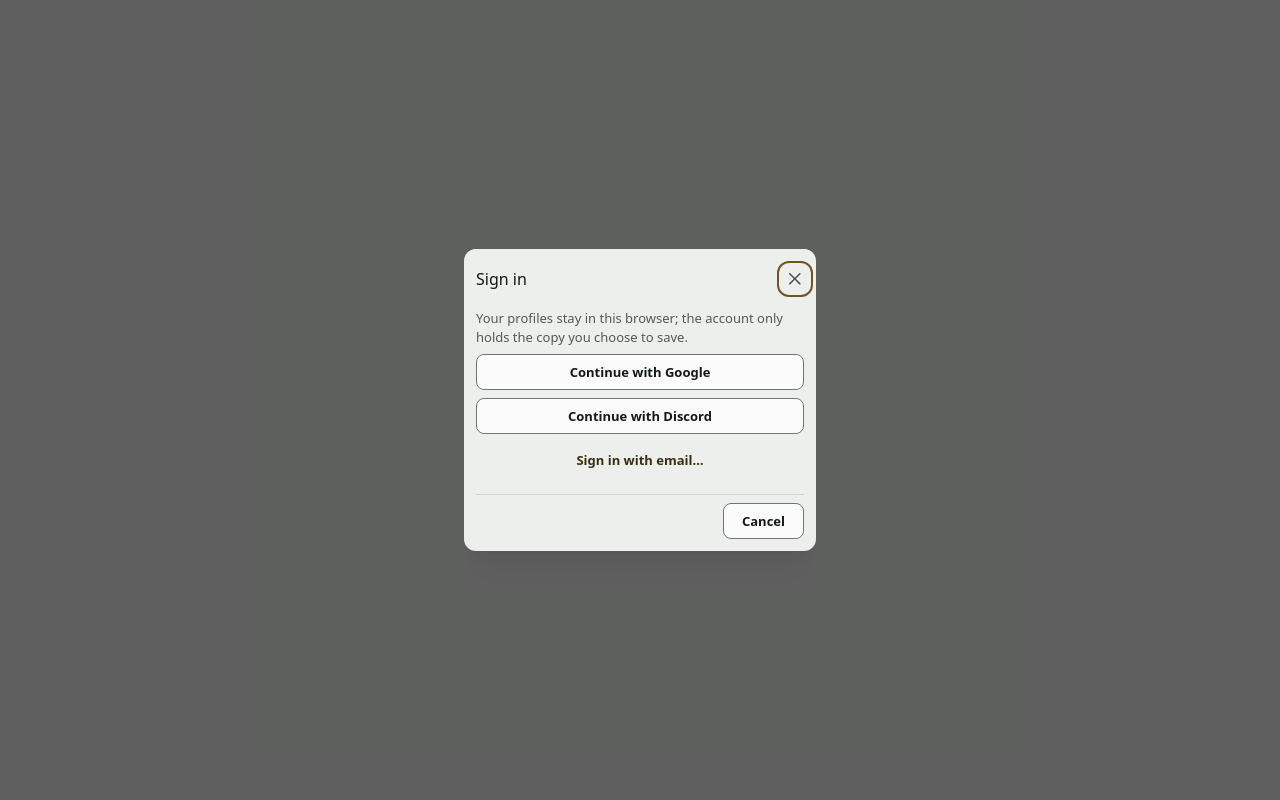
Scenario: a forgotten password is answered the same way whether or not the address exists
This screenshot has width=1280, height=800.
Step 1. Click the button "Sign in with email…" → [640, 460], box [476,442,804,478]
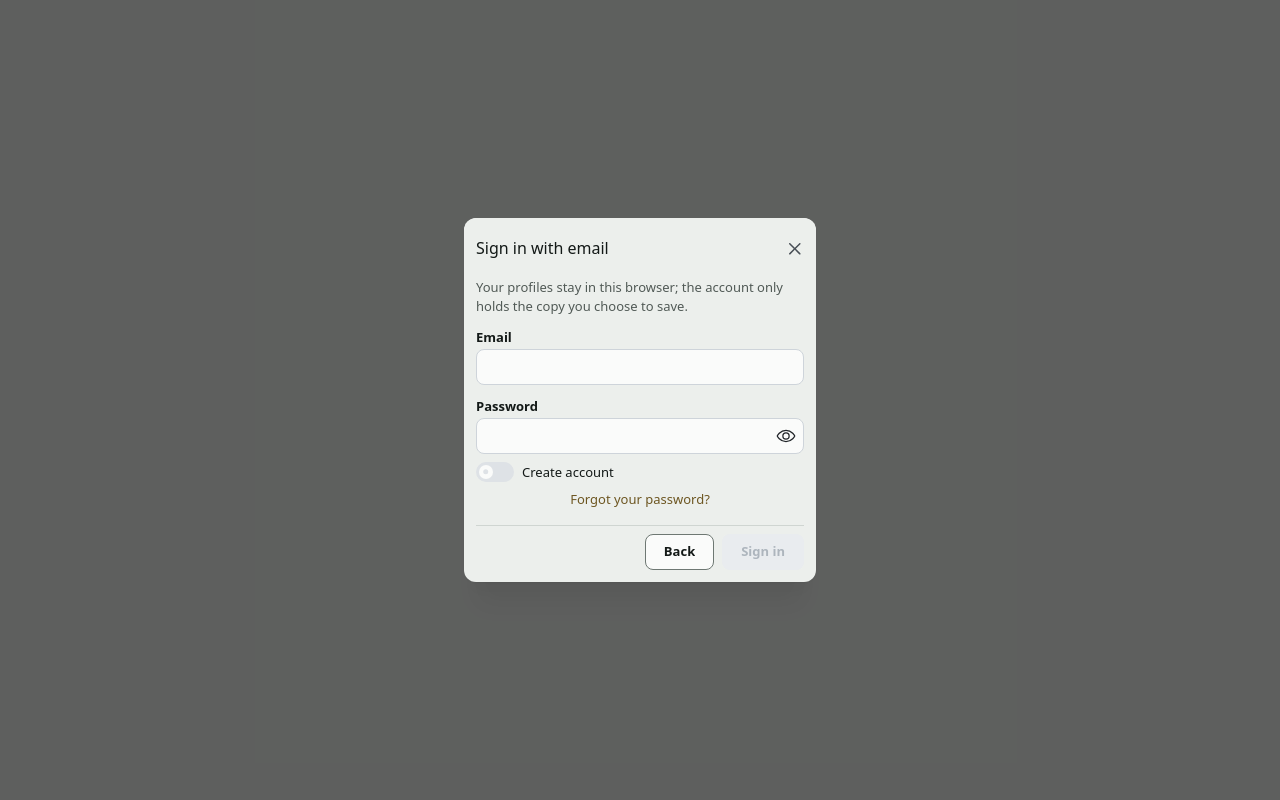
Step 2. Click the button "Forgot your password?" → [640, 499], box [476,490,804,508]
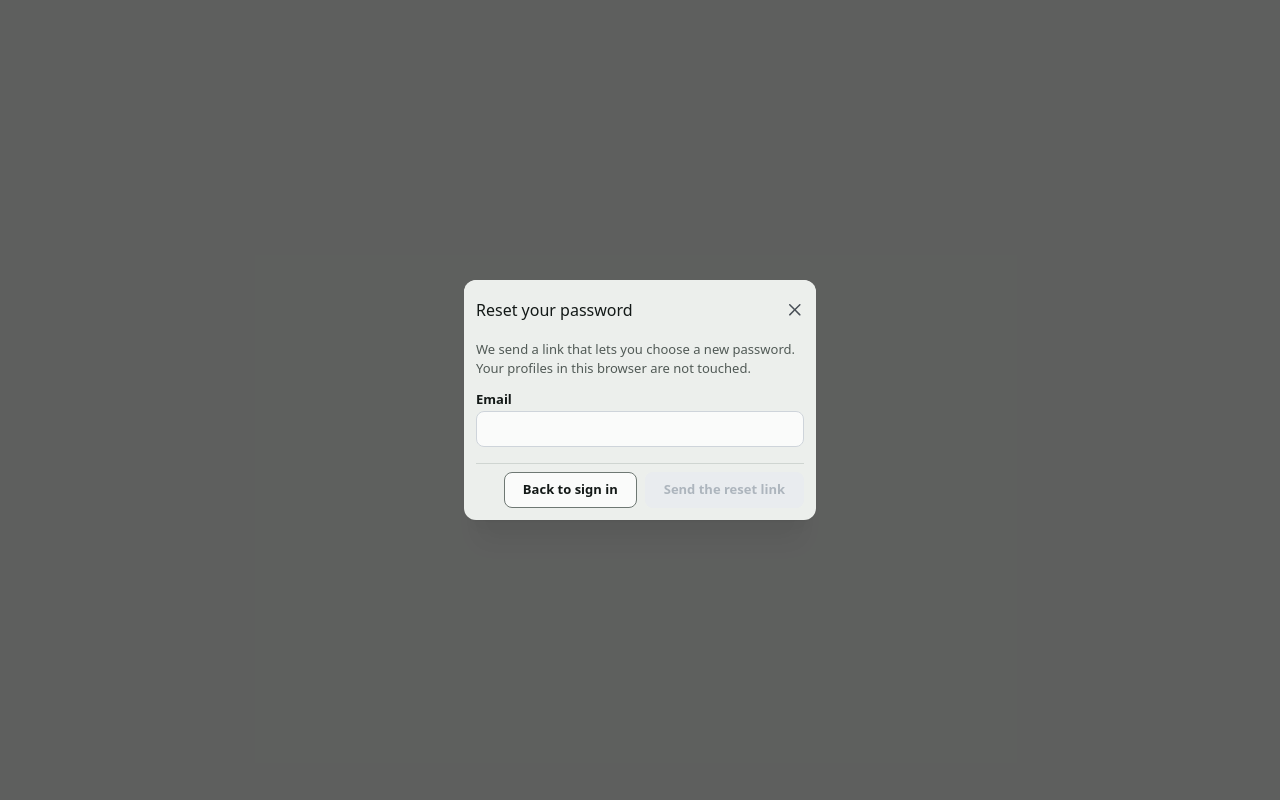
Step 3. Type "player@example.com" into the field labelled "Email" → [640, 429], box [476,411,804,447]
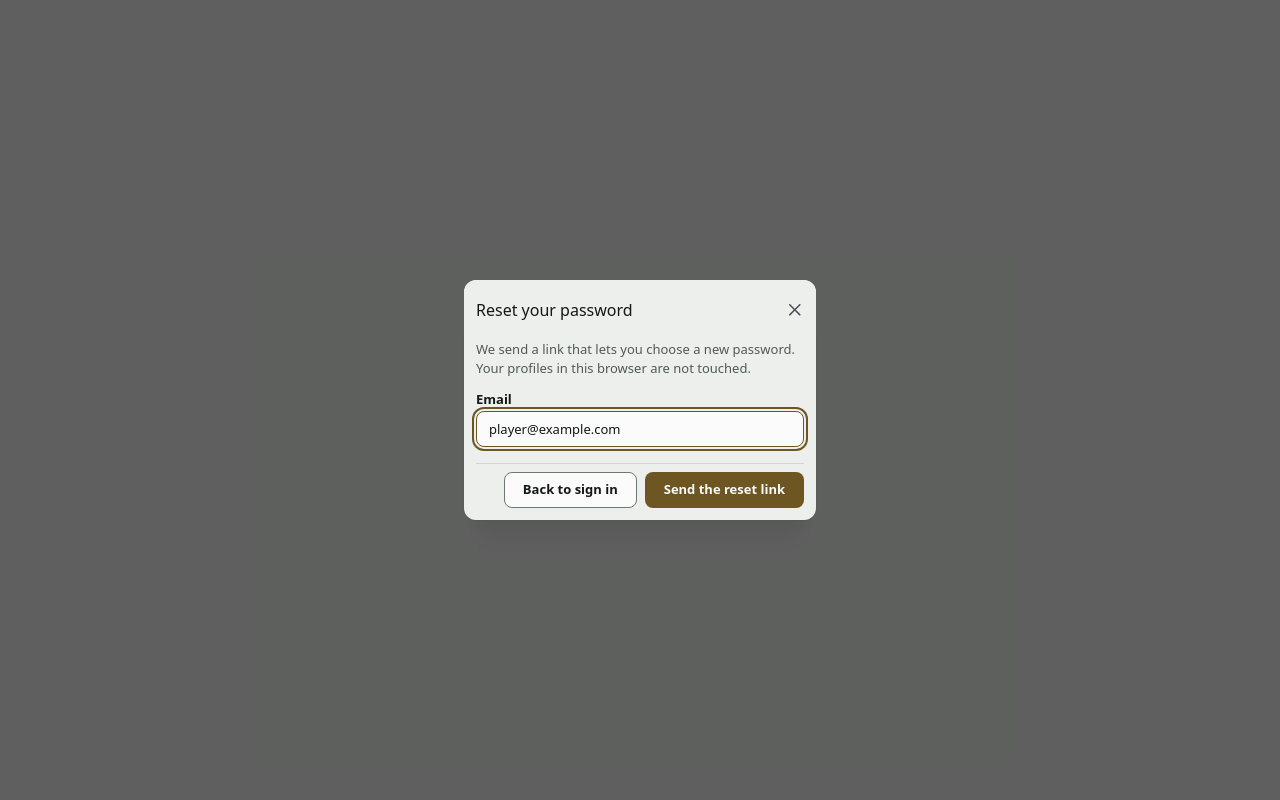
Step 4. Click the button "Send the reset link" → [724, 490], box [645,472,804,508]
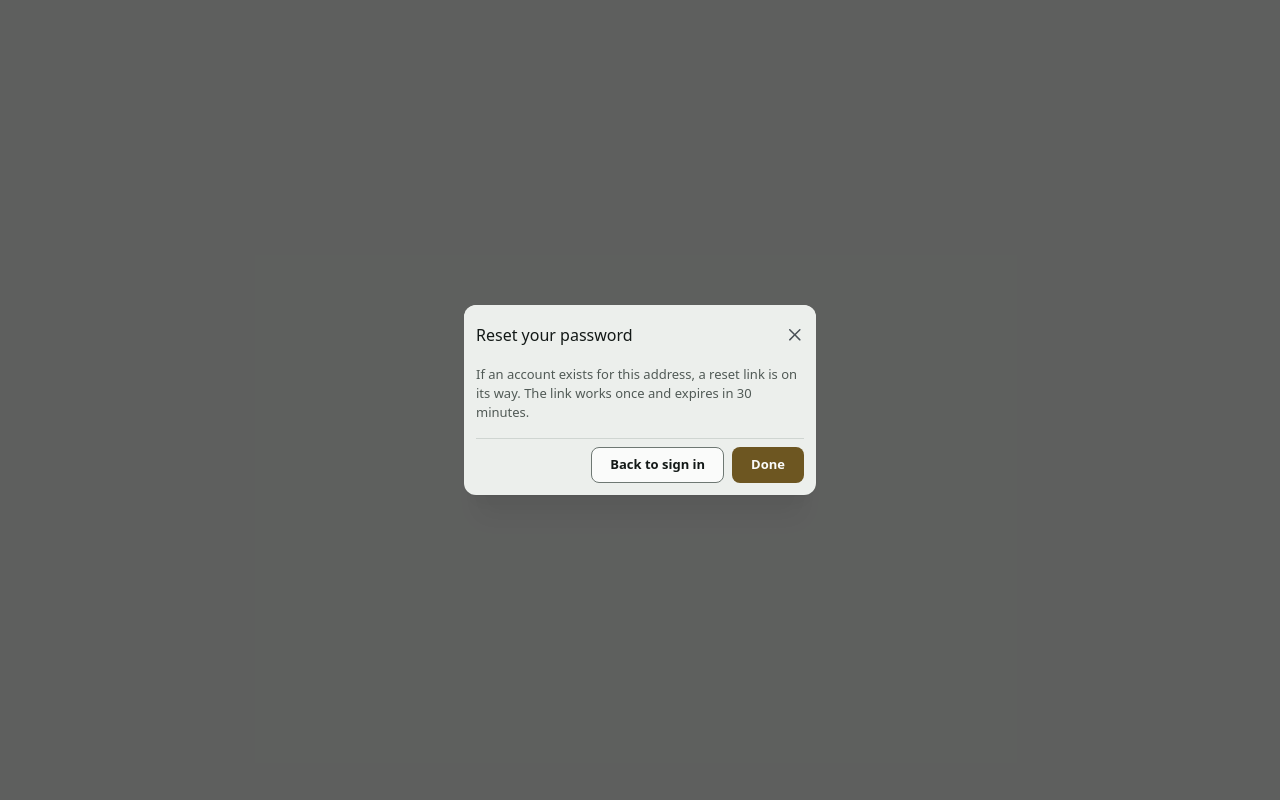
Result: the text "If an account exists for this address" is shown at [476,365,797,421]
